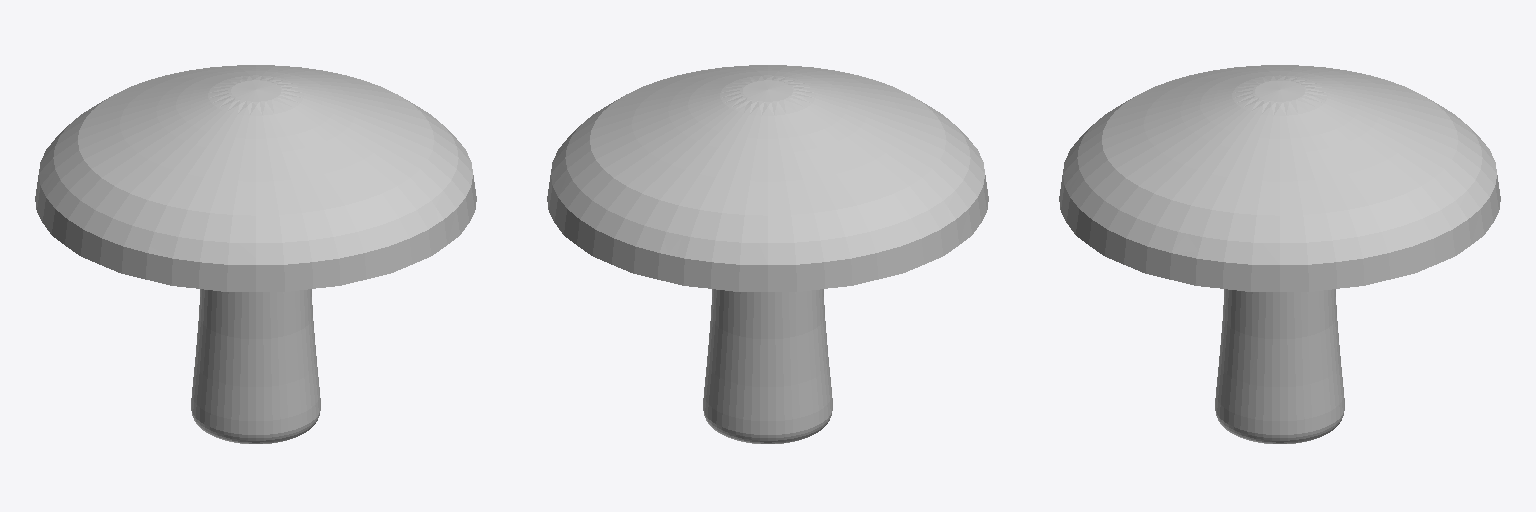
Rendered from mush_gold.obj.
The picture shows the model from 3 angles: view 1: azimuth 30°, elevation 25°; view 2: azimuth 150°, elevation 25°; view 3: azimuth 270°, elevation 25°; orthographic projection.
Visible parts, largest first — view 1: golden-mushroom; view 2: golden-mushroom; view 3: golden-mushroom.
Boxes of the visible parts, x1,y1,x2,y2 form: golden-mushroom: [35, 65, 476, 443]; golden-mushroom: [547, 65, 988, 443]; golden-mushroom: [1059, 65, 1500, 443].
Bounding box in the file's own units: 3.34 × 2.78 × 3.34.